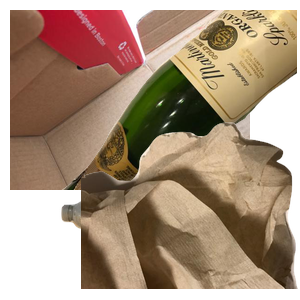cardboard: (10, 10, 250, 190)
glass: (60, 10, 300, 190)
plastic: (59, 193, 241, 300)
trash: (81, 120, 300, 300)
